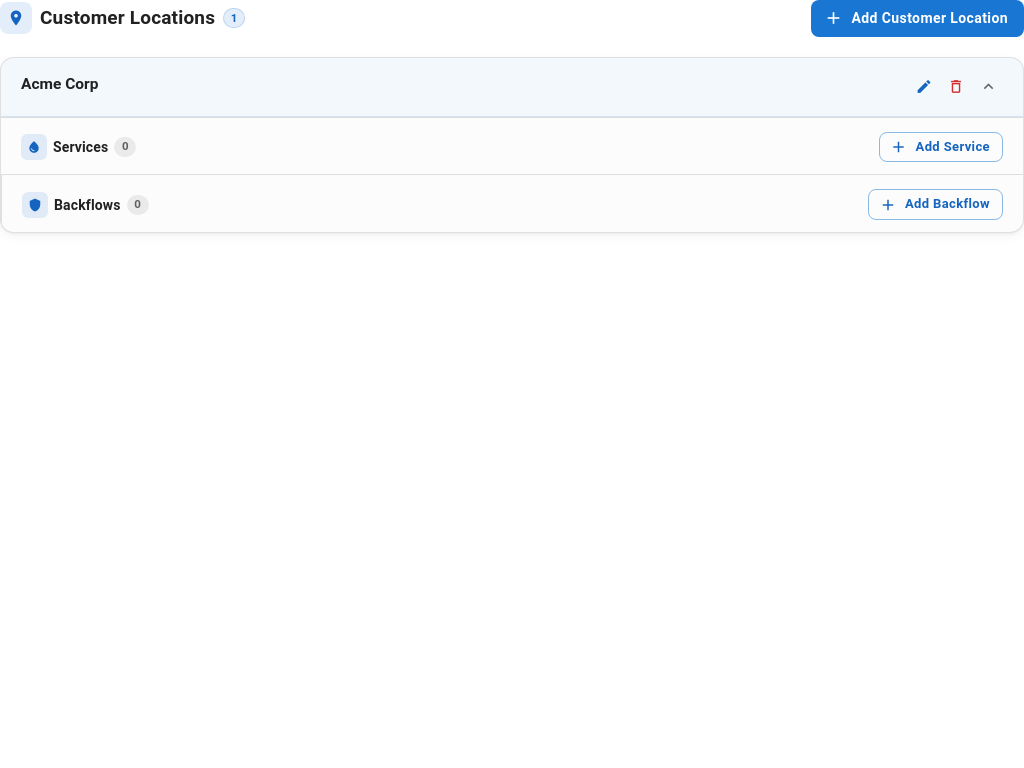
collection control (via FormGenerator) › shows the parent as context in a nested dialog
The image size is (1024, 768).
Expected: the button "Acme Corp" is shown, [21,74,98,95]
Click the button "Add Backflow": {"x": 935, "y": 205} [868,189,1003,220]
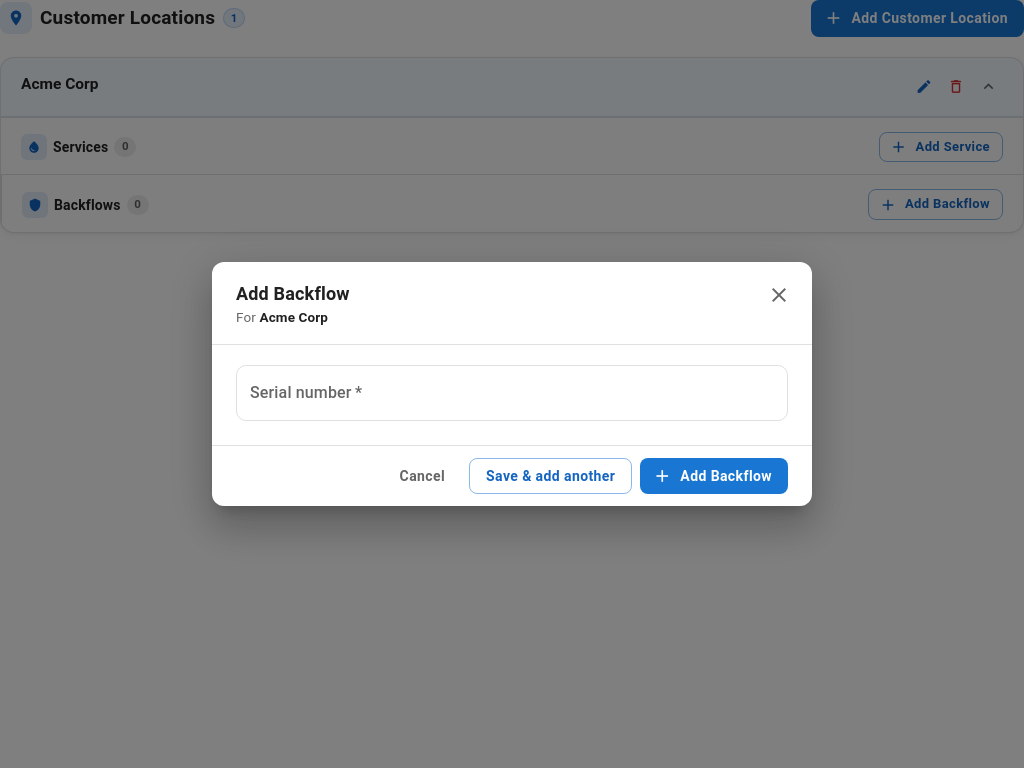
Expected: the dialog is shown, [212,262,812,506]
Expected: the text "Acme Corp" is shown, [260,309,328,325]
